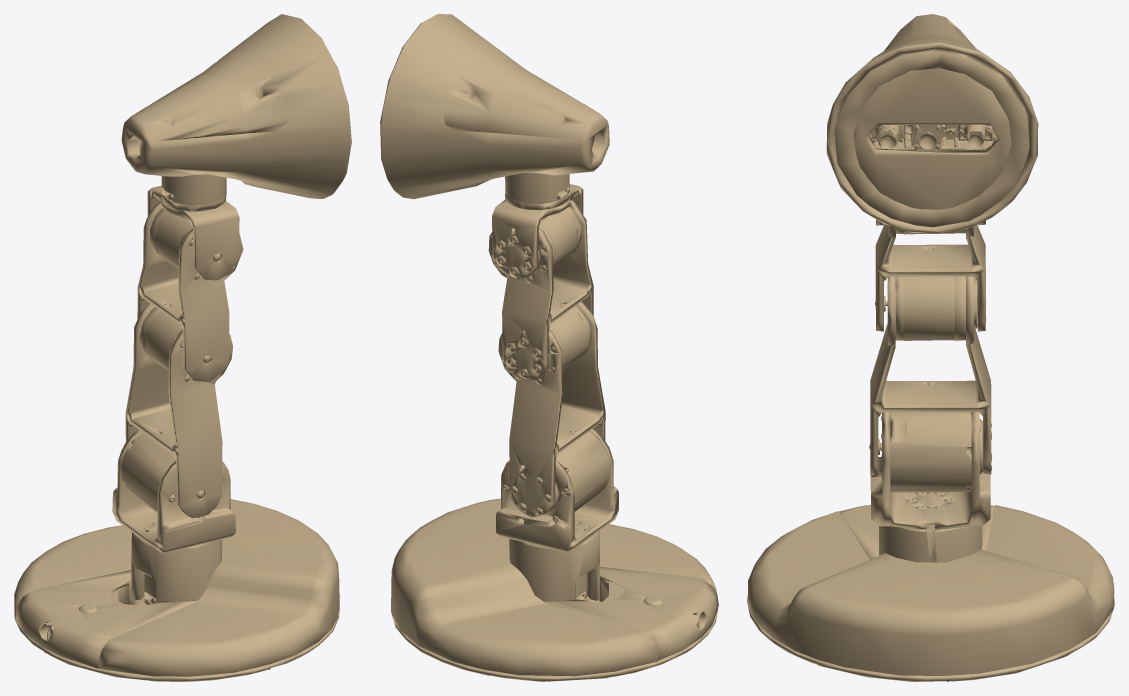
The picture shows the model from 3 angles, left to right: view 1: azimuth 30°, elevation 25°; view 2: azimuth 150°, elevation 25°; view 3: azimuth 270°, elevation 25°; orthographic projection. The views are drawn at different scales.
Visible parts, largest first — view 1: visual_1_base_link_2, visual_16_head_link_17, visual_7_lower_arm_link_8, visual_10_upper_arm_link_11, visual_4_base_rotator_link_5, visual_13_neck_link_14; view 2: visual_1_base_link_2, visual_16_head_link_17, visual_7_lower_arm_link_8, visual_10_upper_arm_link_11, visual_4_base_rotator_link_5, visual_13_neck_link_14; view 3: visual_1_base_link_2, visual_16_head_link_17, visual_4_base_rotator_link_5, visual_7_lower_arm_link_8, visual_10_upper_arm_link_11.
Part boxes in pixels (bbox=[...]): visual_1_base_link_2: bbox=[14, 499, 339, 681]; visual_16_head_link_17: bbox=[121, 14, 351, 198]; visual_7_lower_arm_link_8: bbox=[125, 303, 232, 518]; visual_10_upper_arm_link_11: bbox=[137, 201, 243, 381]; visual_4_base_rotator_link_5: bbox=[112, 429, 235, 553]; visual_13_neck_link_14: bbox=[147, 174, 239, 280]; visual_1_base_link_2: bbox=[391, 498, 718, 681]; visual_16_head_link_17: bbox=[380, 14, 609, 199]; visual_7_lower_arm_link_8: bbox=[498, 301, 605, 517]; visual_10_upper_arm_link_11: bbox=[488, 200, 593, 380]; visual_4_base_rotator_link_5: bbox=[496, 429, 618, 553]; visual_13_neck_link_14: bbox=[492, 173, 583, 279]; visual_1_base_link_2: bbox=[747, 505, 1114, 681]; visual_16_head_link_17: bbox=[826, 14, 1038, 233]; visual_4_base_rotator_link_5: bbox=[870, 412, 990, 529]; visual_7_lower_arm_link_8: bbox=[869, 276, 992, 475]; visual_10_upper_arm_link_11: bbox=[875, 224, 986, 331].
Bounding box in the file's own units: 0.2305 × 0.4388 × 0.2305.
